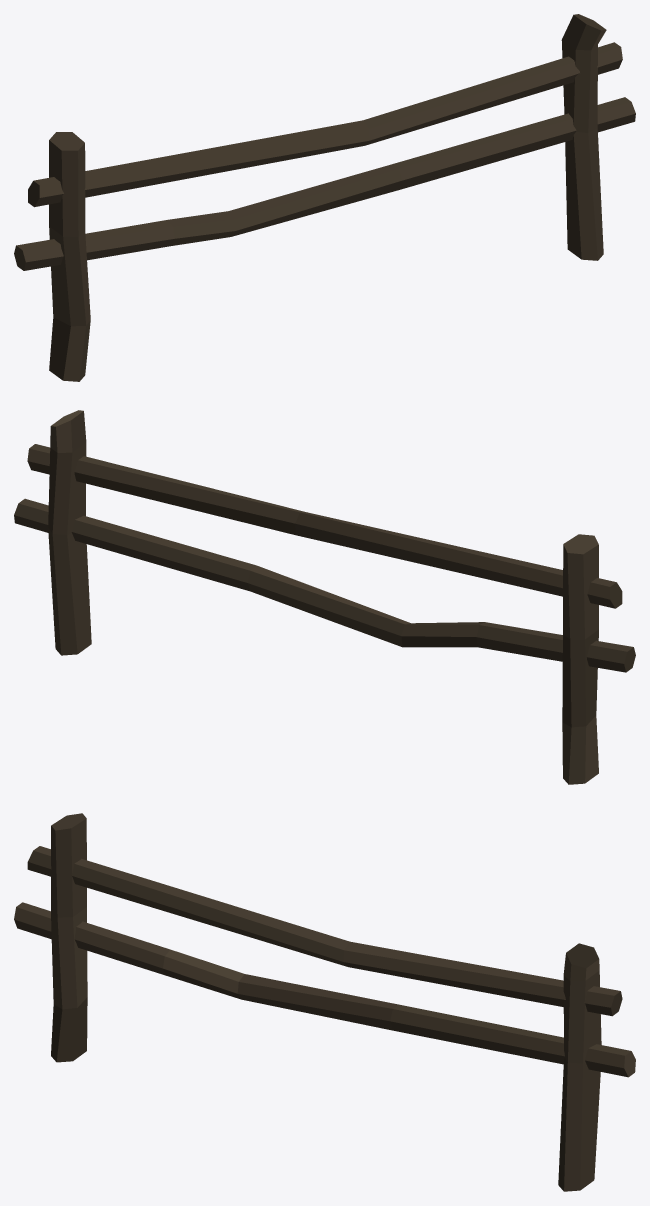
The model's file is synty-prop-fence-01.gltf.
The picture shows the model from 3 angles, top to bottom: view 1: azimuth 30°, elevation 25°; view 2: azimuth 150°, elevation 25°; view 3: azimuth 330°, elevation 25°; orthographic projection.
Parts seen in each view (by area): view 1: SM_Prop_Fence_01; view 2: SM_Prop_Fence_01; view 3: SM_Prop_Fence_01.
Part boxes in pixels (x1,y1,x2,y2): SM_Prop_Fence_01: (14,14,635,381); SM_Prop_Fence_01: (14,410,635,784); SM_Prop_Fence_01: (14,813,635,1191).
Bounding box in the file's own units: 2.98 × 1.09 × 0.2542.
1 material, 1 textured.
